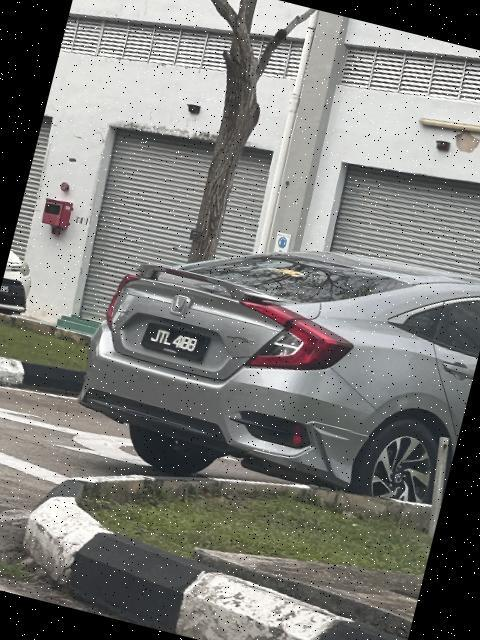JTL4188: (138, 320, 216, 367)
License_Plate: (138, 320, 216, 367)
car: (60, 194, 480, 535)
